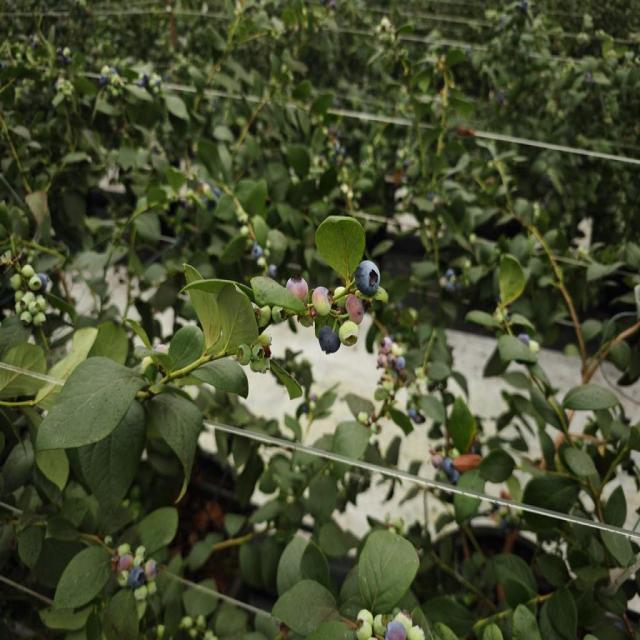RipeBlueBerry: (356, 260, 381, 297), (318, 326, 341, 356)
Semi-RipeBlueBerry: (286, 274, 309, 302), (346, 295, 364, 324)
UnripeBlueBerry: (338, 321, 361, 348), (313, 286, 333, 316)
